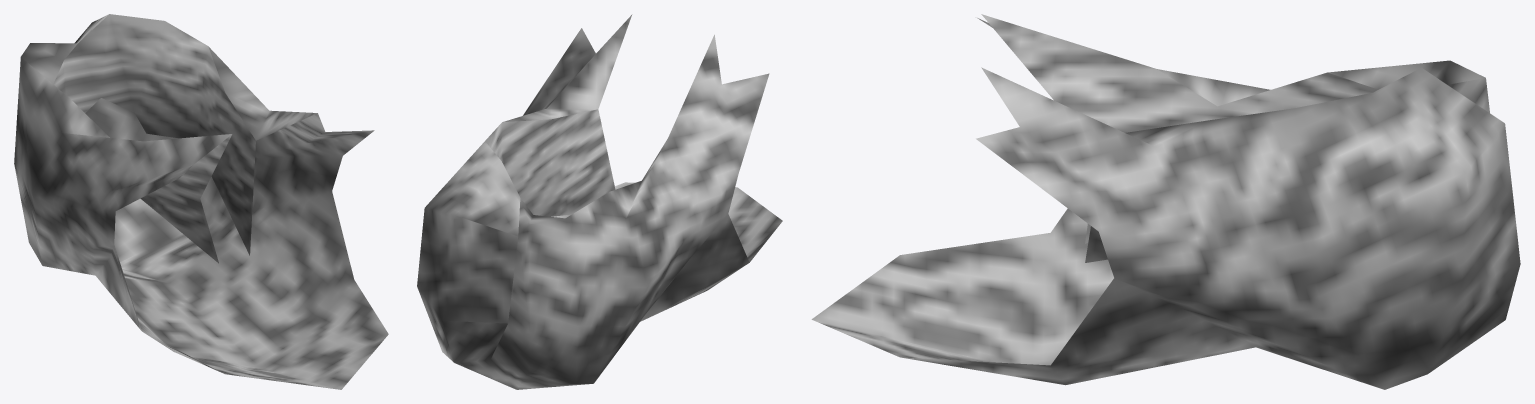
File: Wig_M_Hair_Fabian.fbx
3 renders of one model, left to right at view 1: azimuth 30°, elevation 25°; view 2: azimuth 150°, elevation 25°; view 3: azimuth 270°, elevation 25°, orthographic. The views are drawn at different scales.
Parts seen in each view (by area): view 1: BoxOfJars003; view 2: BoxOfJars003; view 3: BoxOfJars003.
Boxes of the visible parts, left/top/right/bottom form: BoxOfJars003: left=14, top=14, right=388, bottom=389; BoxOfJars003: left=417, top=14, right=782, bottom=389; BoxOfJars003: left=811, top=14, right=1520, bottom=389.
Bounding box in the file's own units: 15.92 × 17.47 × 33.64.
